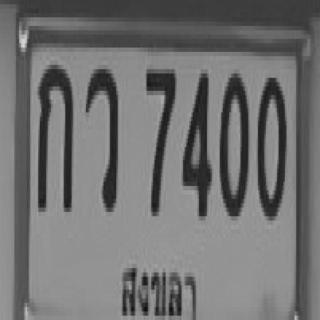A01: (37, 61, 72, 208)
A37: (84, 65, 116, 208)
N00: (218, 69, 247, 216), (256, 73, 285, 216)
N04: (181, 67, 210, 218)
N07: (145, 65, 175, 212)
P64: (114, 253, 204, 320)
